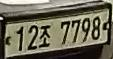1: (15, 24, 26, 53)
2: (27, 23, 38, 52)
7: (59, 20, 71, 44), (71, 17, 81, 45)
8: (91, 16, 102, 41)
9: (81, 14, 91, 44)
조: (39, 23, 51, 48)
